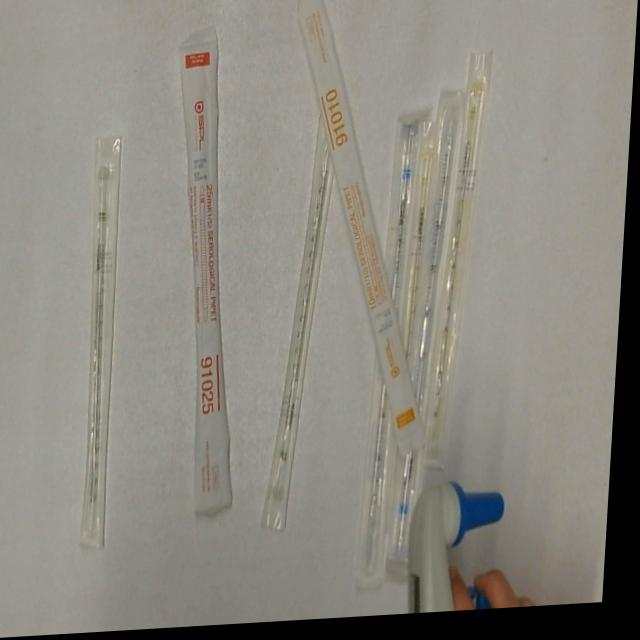Pipette Controller: (403, 474, 552, 620)
Serelogical Pipet 1 mL - Sealed: (426, 64, 501, 473), (398, 123, 448, 377)
Serelogical Pipet 10 mL - Sealed: (273, 0, 452, 464)
Serelogical Pipet 2 mL - Sealed: (260, 107, 341, 538), (78, 133, 134, 558)
Serelogical Pipet 25 mL - Sealed: (157, 22, 277, 525)
Serelogical Pipet 5 mL - Sealed: (393, 94, 469, 587), (358, 106, 433, 595)
